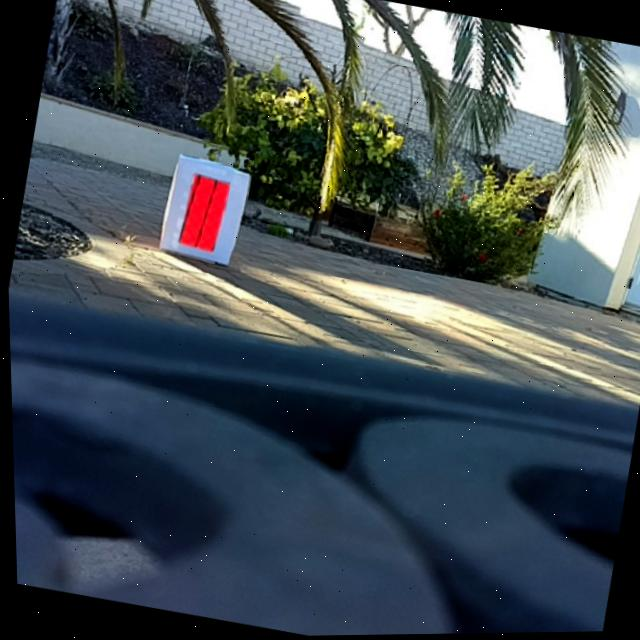led: (180, 173, 231, 259)
